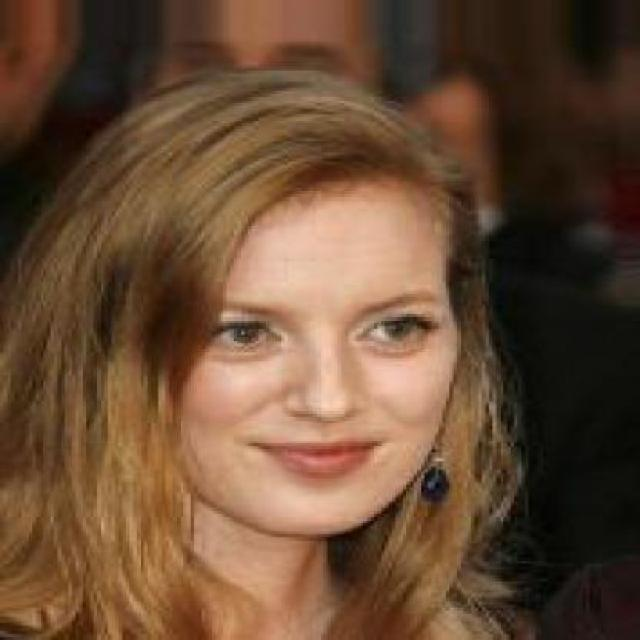closed-mouth: (242, 426, 404, 488)
